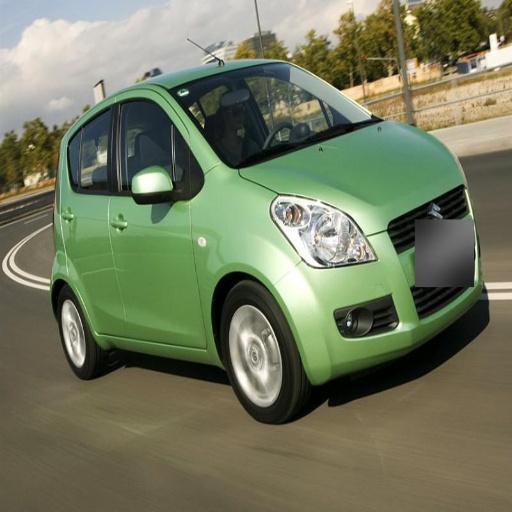front_bumper: (275, 189, 482, 380)
front_right_door: (110, 97, 202, 345)
front_right_light: (272, 195, 375, 267)
